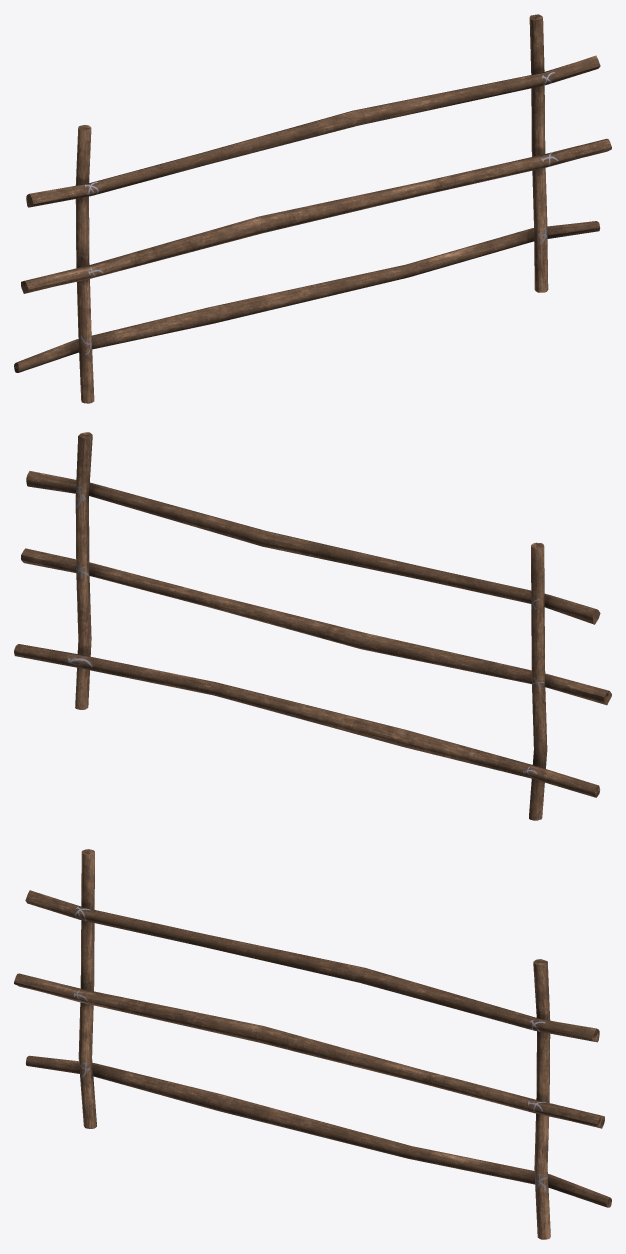
The model's file is wooden_fence_farm_wooden_wall.glb.
3 views of the same model, one above another, from view 1: azimuth 30°, elevation 25°; view 2: azimuth 150°, elevation 25°; view 3: azimuth 330°, elevation 25° (orthographic).
Parts seen in each view (by area): view 1: Object_3; view 2: Object_3; view 3: Object_3.
Boxes of the visible parts, x1,y1,x2,y2 form: Object_3: (14, 14, 611, 403); Object_3: (14, 432, 611, 820); Object_3: (14, 849, 611, 1239).
Size of the model in its own units: 199 by 89.22 by 11.17.
1 material, 1 textured.
